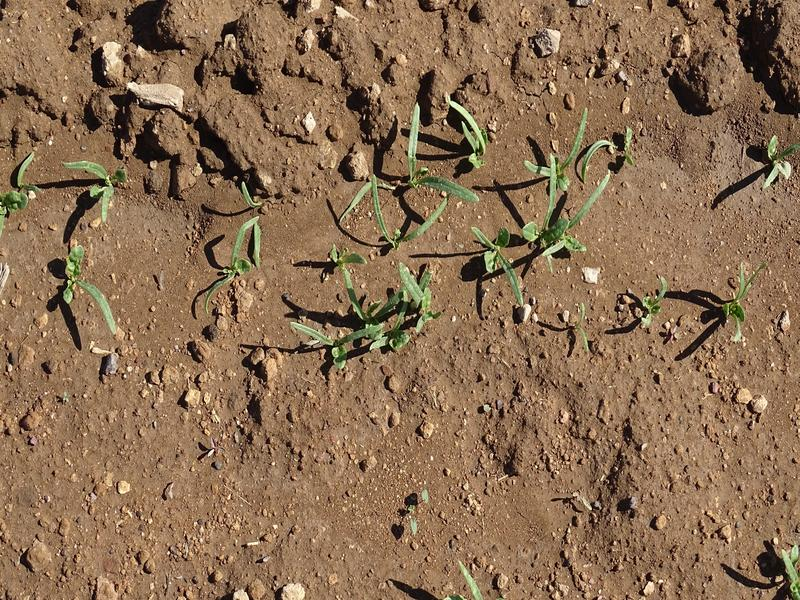Espinaca: (339, 105, 484, 232), (300, 244, 445, 366), (535, 141, 604, 264), (59, 249, 124, 341), (212, 218, 271, 301), (479, 231, 532, 306), (726, 259, 764, 337), (75, 159, 115, 216), (762, 133, 800, 190), (3, 154, 39, 212), (632, 273, 669, 319)
